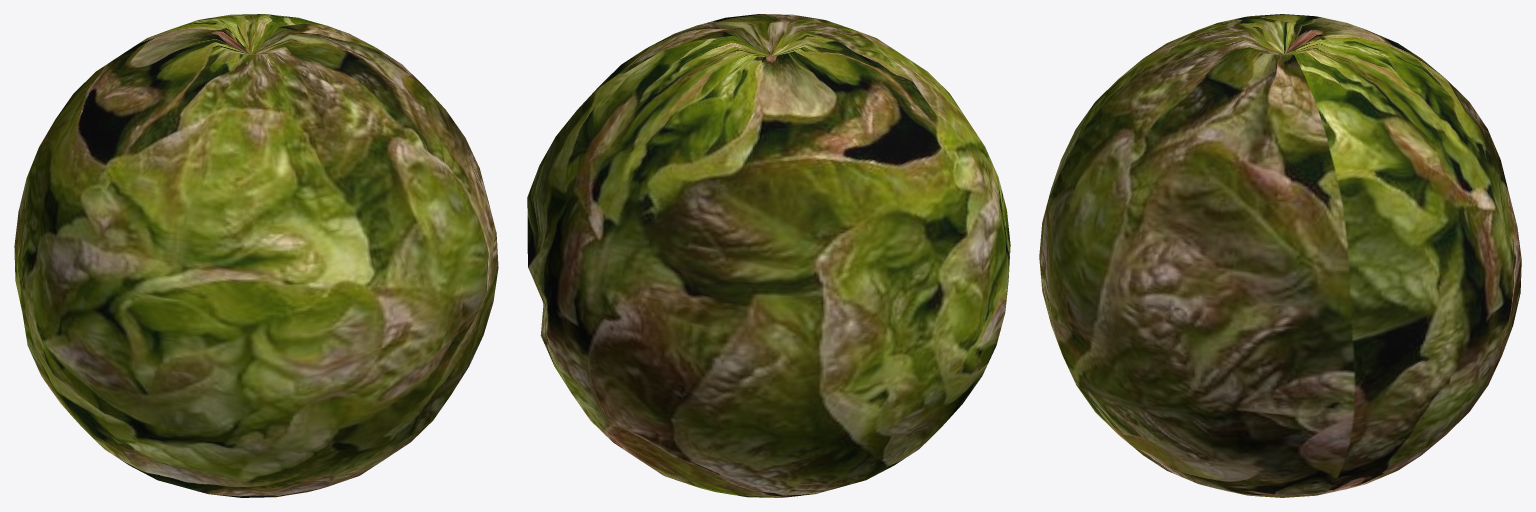
Rendered from lettuce.fbx.
3 views of the same model, side by side, from view 1: azimuth 30°, elevation 25°; view 2: azimuth 150°, elevation 25°; view 3: azimuth 270°, elevation 25° (orthographic).
Visible parts, largest first — view 1: pSphere1; view 2: pSphere1; view 3: pSphere1.
Boxes of the visible parts, bbox=[...] form: pSphere1: bbox=[14, 14, 498, 497]; pSphere1: bbox=[527, 14, 1010, 497]; pSphere1: bbox=[1039, 14, 1521, 497].
Bounding box in the file's own units: 14.32 × 13.55 × 14.29.
Materials: 1 (1 with a texture image).
